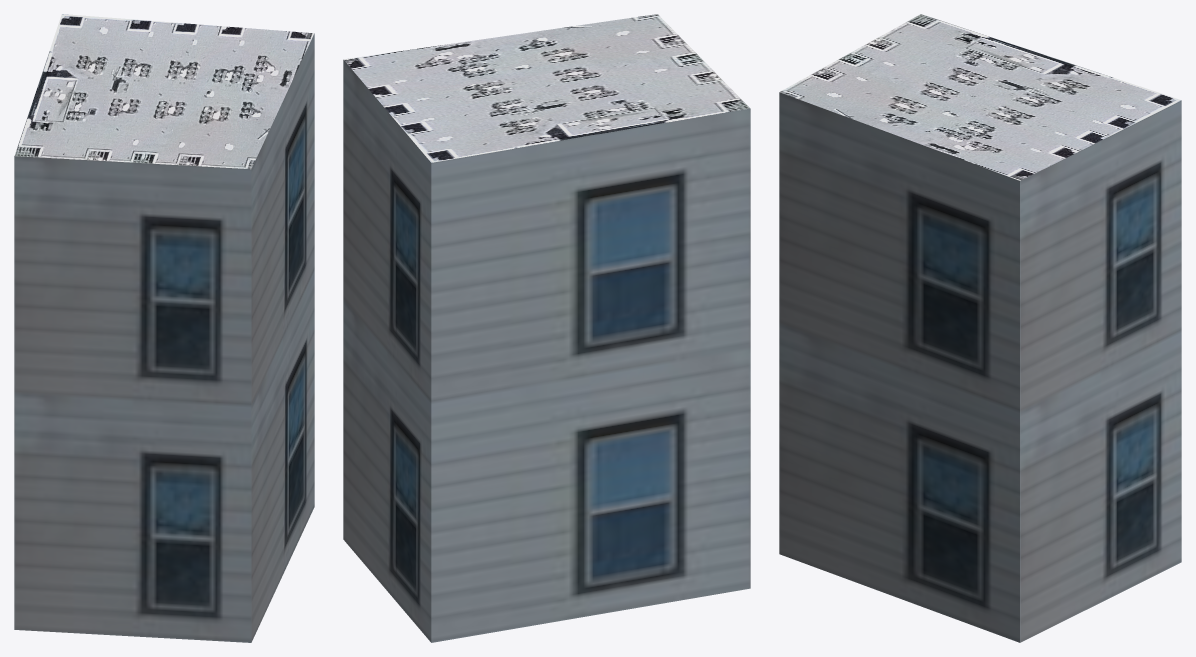
Rendered from ResTex__1238.fbx.
The picture shows the model from 3 angles, left to right: view 1: azimuth 30°, elevation 25°; view 2: azimuth 150°, elevation 25°; view 3: azimuth 270°, elevation 25°; orthographic projection. The views are drawn at different scales.
Parts seen in each view (by area): view 1: CityEngineMaterial_18_m, CityEngineMaterial_2_m; view 2: CityEngineMaterial_18_m, CityEngineMaterial_2_m; view 3: CityEngineMaterial_18_m, CityEngineMaterial_2_m.
Part boxes in pixels (x1,y1,x2,y2): CityEngineMaterial_18_m: [14, 33, 314, 642]; CityEngineMaterial_2_m: [14, 14, 314, 169]; CityEngineMaterial_18_m: [343, 60, 750, 642]; CityEngineMaterial_2_m: [343, 14, 750, 162]; CityEngineMaterial_18_m: [779, 92, 1181, 642]; CityEngineMaterial_2_m: [779, 14, 1181, 180].
Bounding box in the file's own units: 4.65 × 6 × 4.74.
2 materials, 2 textured.
